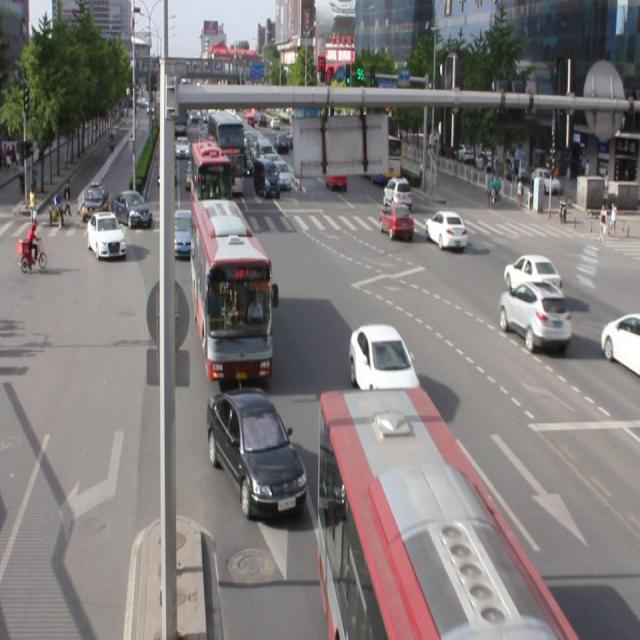car: (208, 384, 308, 519), (350, 320, 420, 409), (498, 279, 571, 353), (503, 251, 561, 301), (599, 310, 640, 377), (423, 207, 466, 249), (378, 202, 413, 240), (173, 206, 199, 255)
van: (318, 387, 577, 640), (192, 199, 272, 378)
